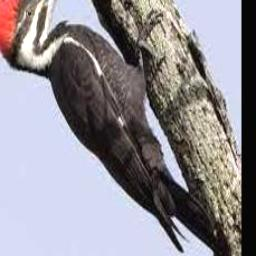Woodpecker: (0, 0, 239, 256)
